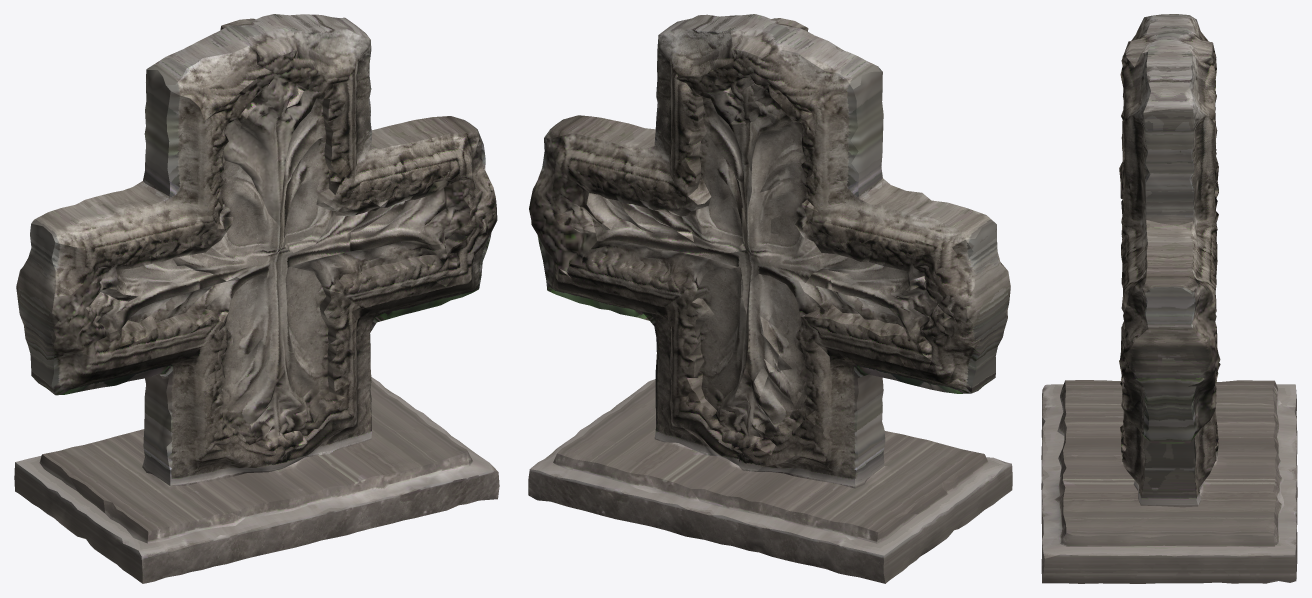
File: tombstone_slab.glb
3 renders of one model, left to right at view 1: azimuth 30°, elevation 25°; view 2: azimuth 150°, elevation 25°; view 3: azimuth 270°, elevation 25°, orthographic.
Visible parts, largest first — view 1: geometry_0; view 2: geometry_0; view 3: geometry_0.
Boxes of the visible parts, x1,y1,x2,y2 form: geometry_0: (14, 14, 499, 583); geometry_0: (528, 14, 1012, 583); geometry_0: (1041, 14, 1297, 583).
Bounding box in the file's own units: 0.5007 × 0.5 × 0.2517.
1 material, 1 textured.
